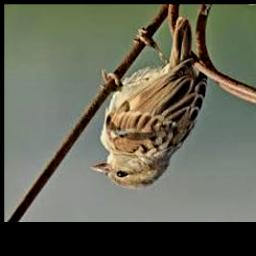Sparrow: (90, 16, 207, 189)
